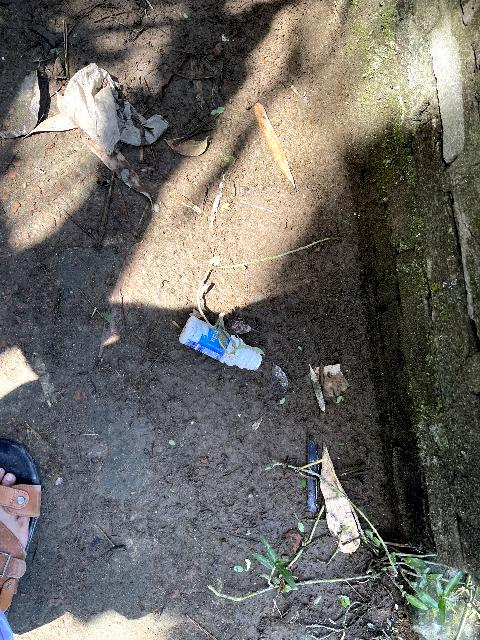bottle: (161, 300, 280, 374)
